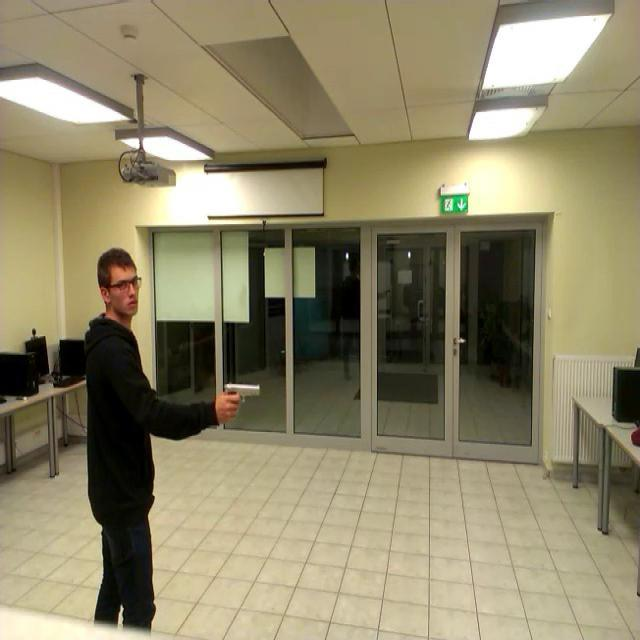weapon: (224, 384, 261, 406)
